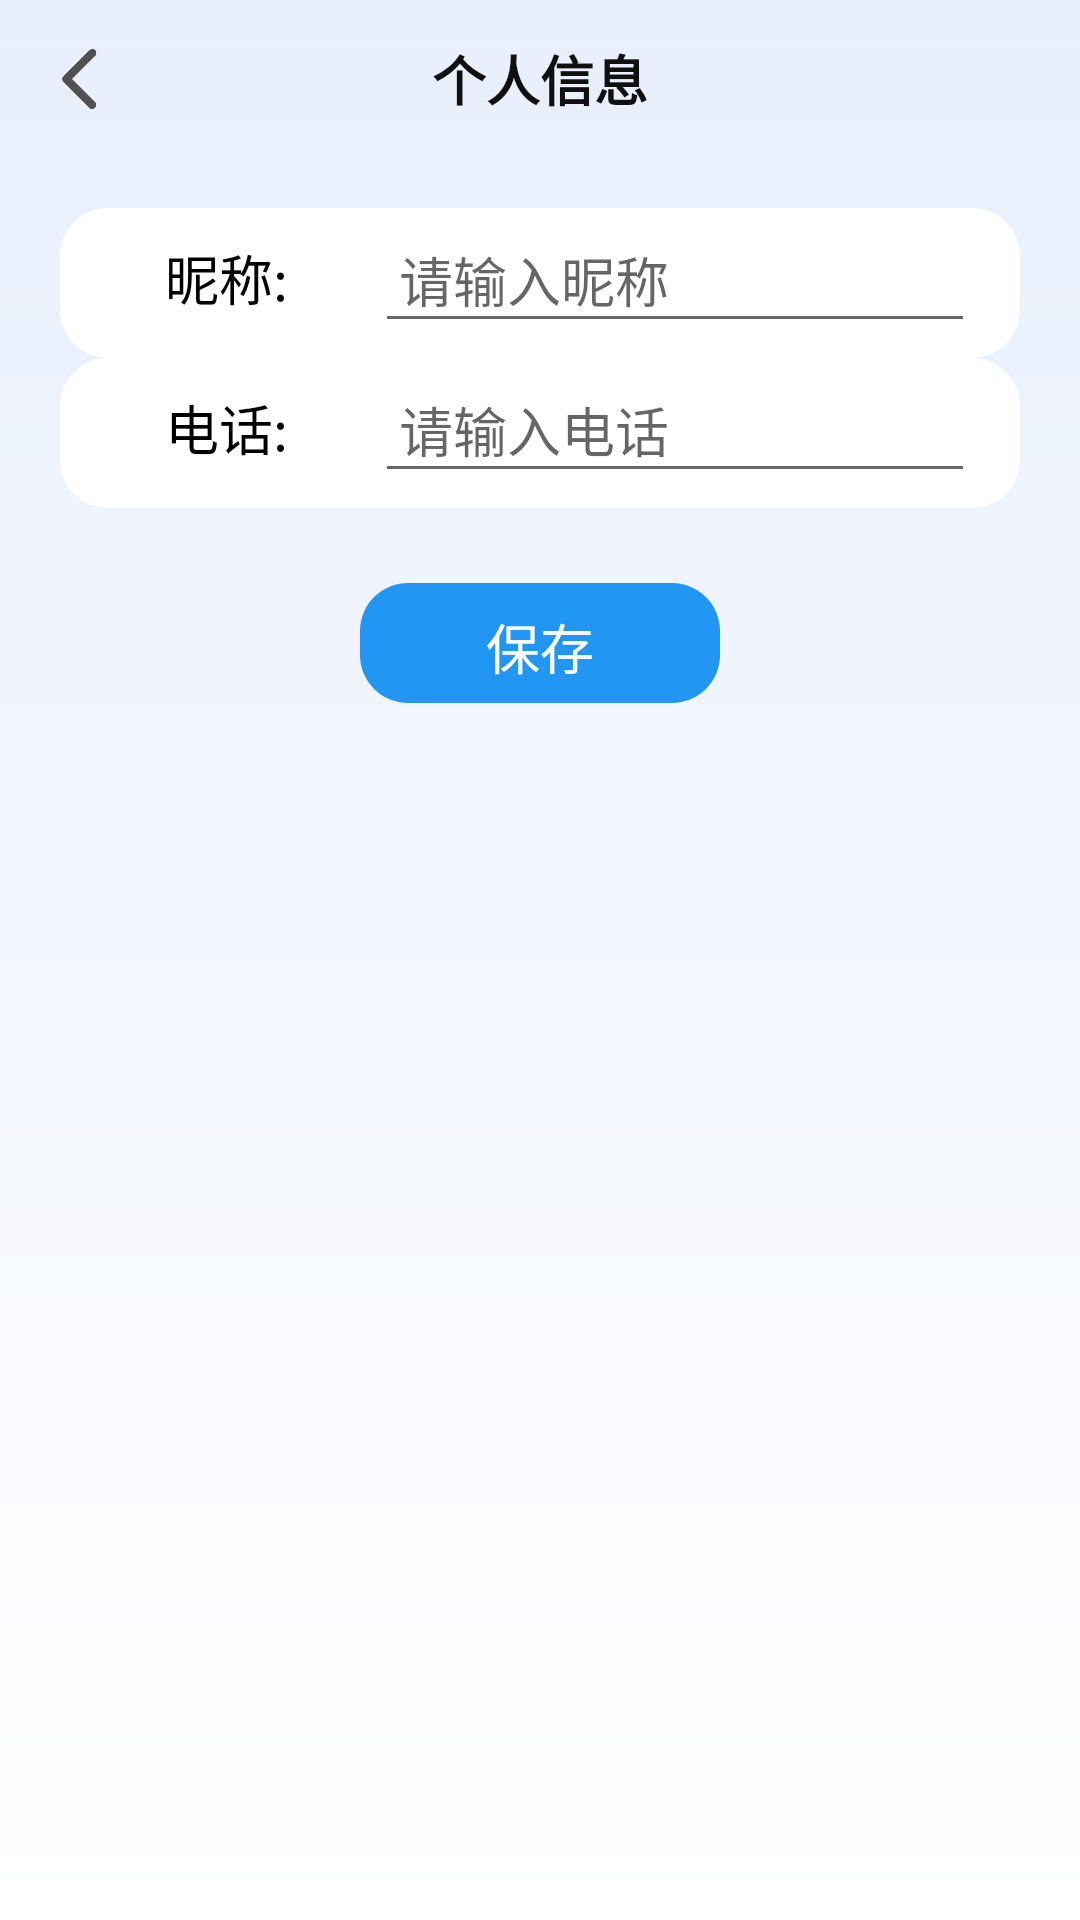

Where to tap for icons on this 1080px x 1920px app screen, as (x=x, y=y):
goback: (x=79, y=79)
